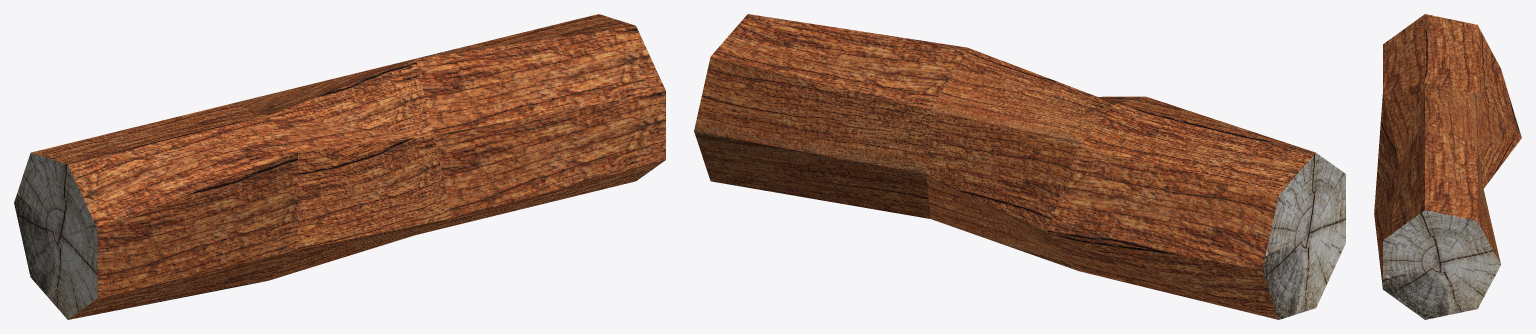
File: Log.fbx
The picture shows the model from 3 angles, left to right: view 1: azimuth 30°, elevation 25°; view 2: azimuth 150°, elevation 25°; view 3: azimuth 270°, elevation 25°; orthographic projection. The views are drawn at different scales.
Visible parts, largest first — view 1: 円; view 2: 円; view 3: 円.
Boxes of the visible parts, <box> form: 円: <box>14,14,665,319</box>; 円: <box>694,14,1345,319</box>; 円: <box>1374,14,1521,319</box>.
Size of the model in its own units: 746 by 232 by 237.
Materials: 2 (2 with a texture image).
